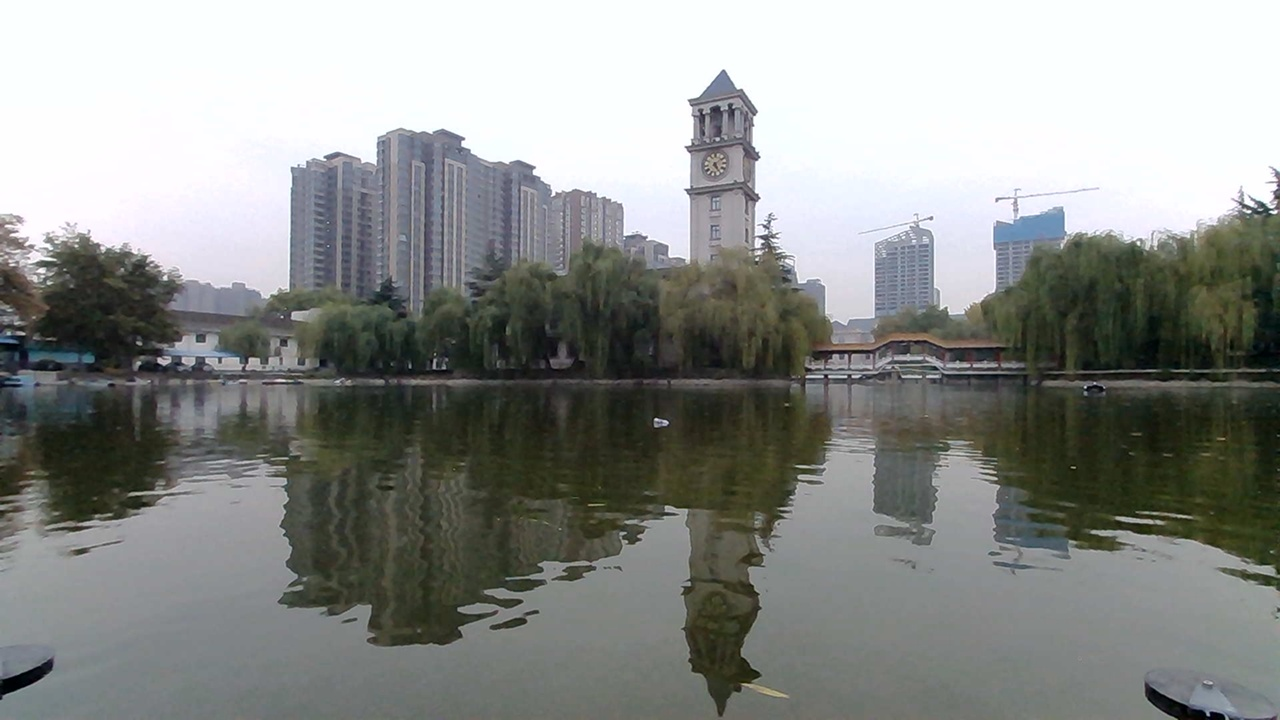bottle: (643, 409, 695, 447)
